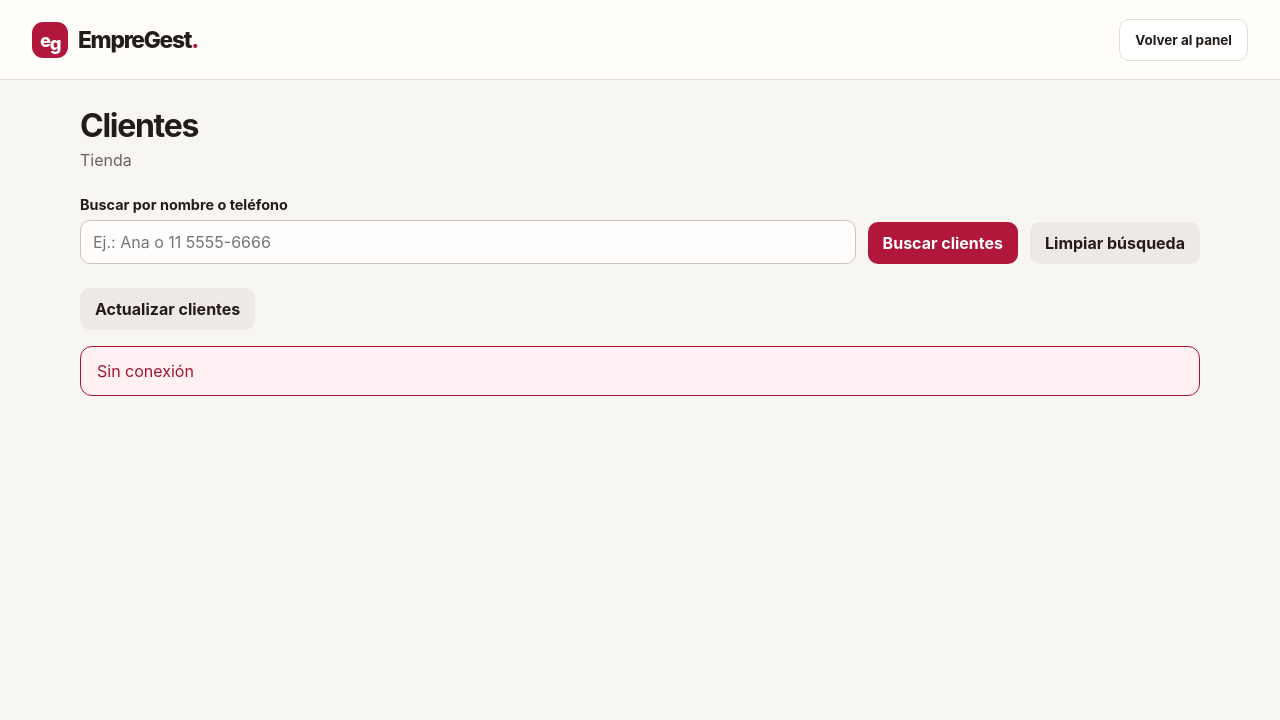
muestra vacío y permite recuperar error de carga
expect the message reads "Sin conexión": met, box x1=97 y1=361 x2=194 y2=381
Click the button "Actualizar clientes" at (168,309), box x1=80 y1=288 x2=255 y2=330
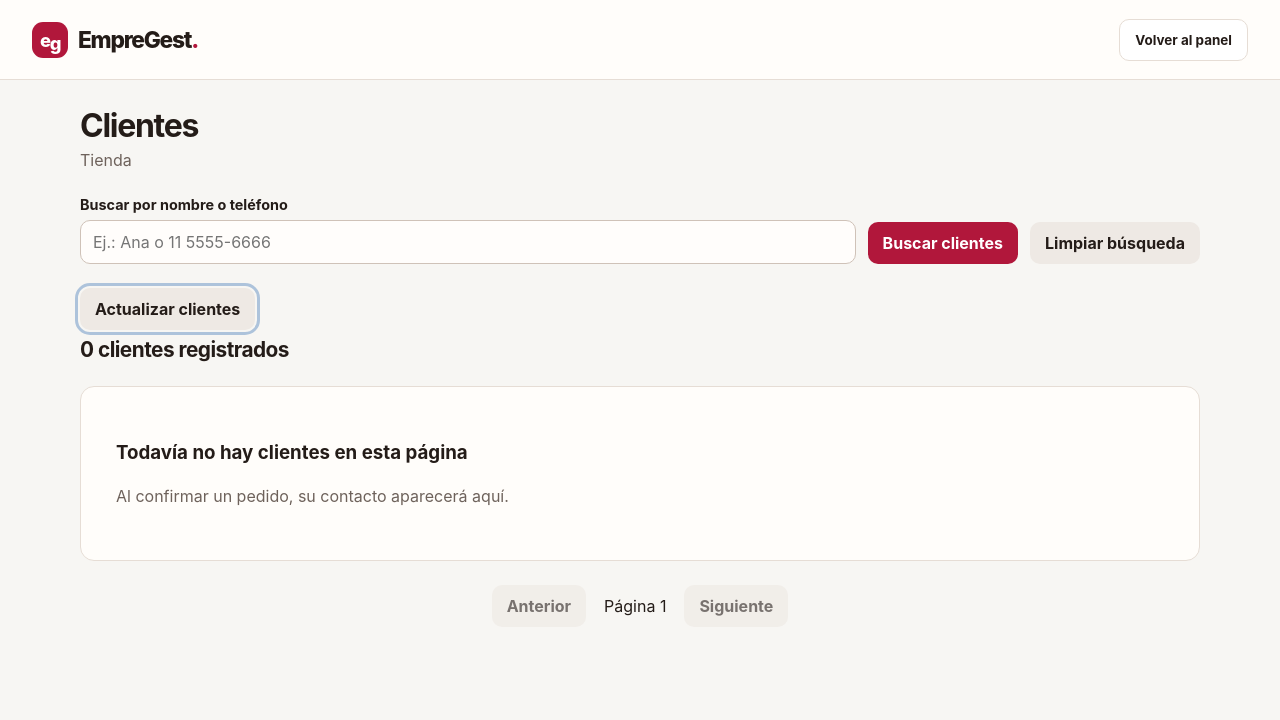
expect the heading "Todavía no hay clientes en esta página" is shown: met, box x1=116 y1=441 x2=468 y2=464
